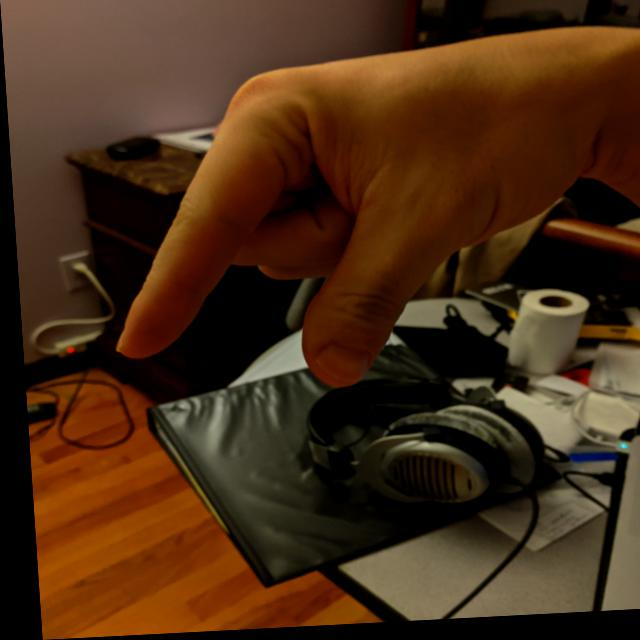Q: (89, 26, 602, 404)
